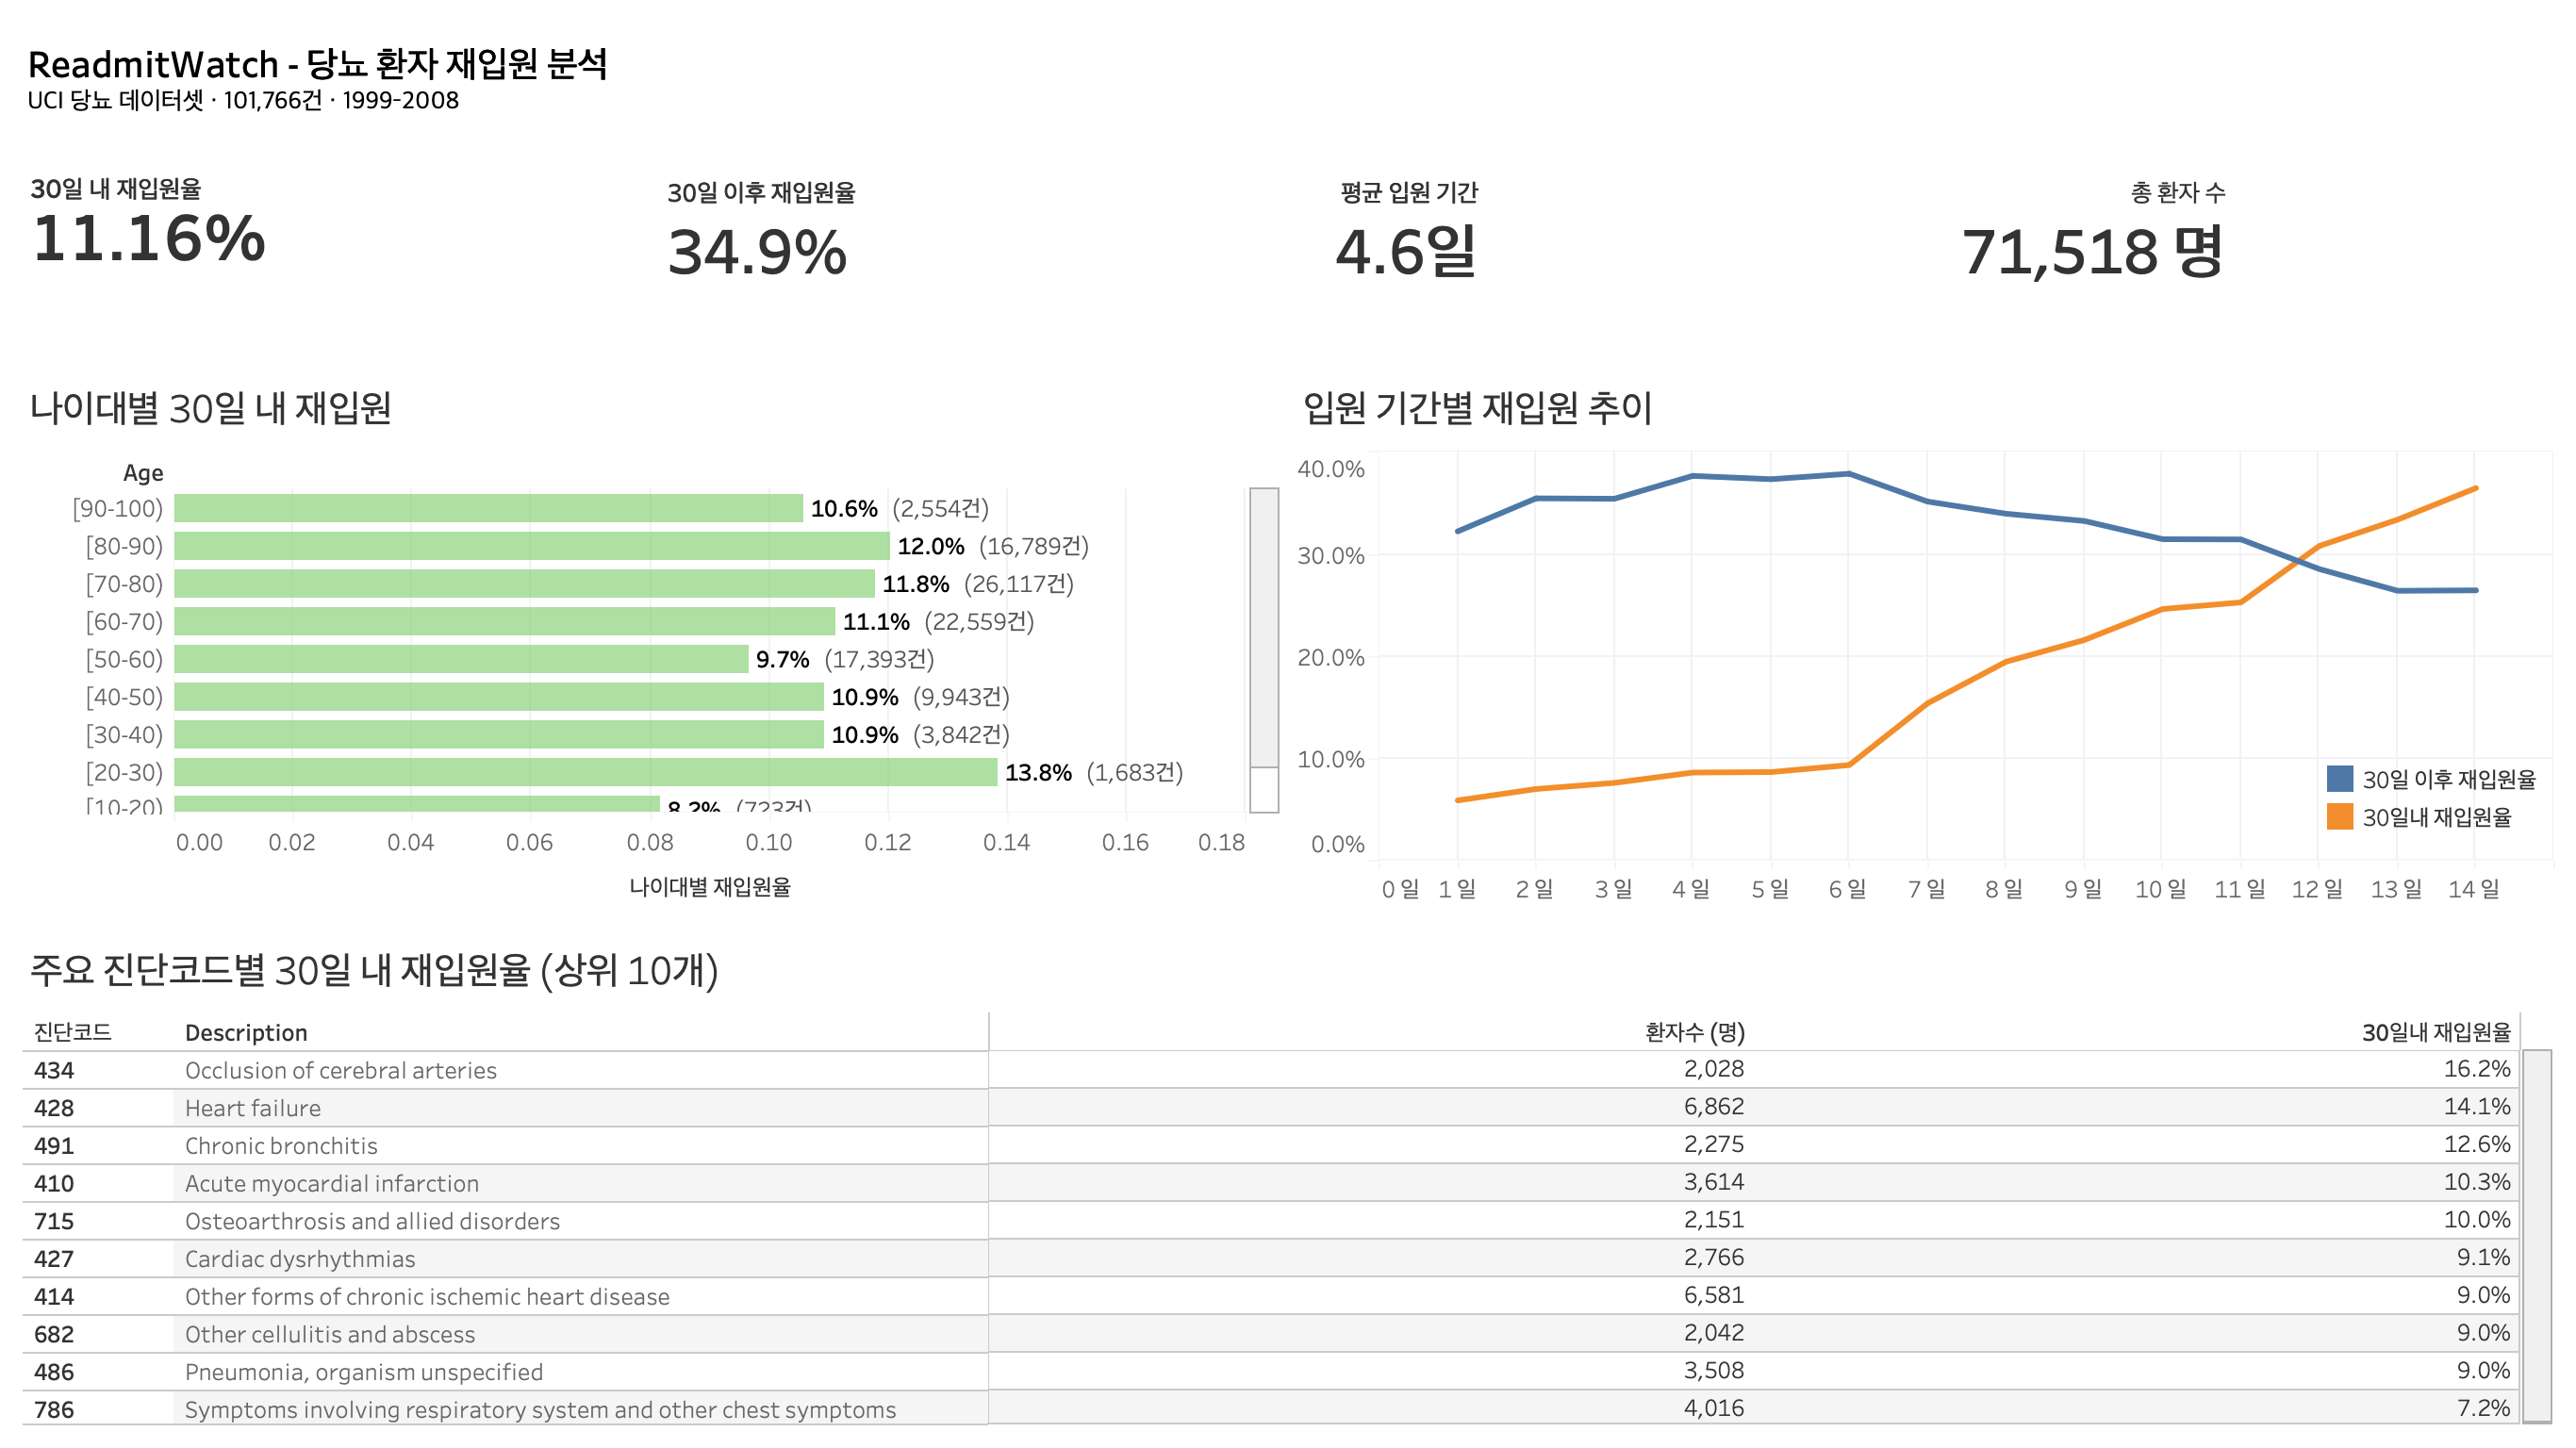

This screenshot's page, from the dashboard's own definition file:
{"tool":"tableau","page":{"name":"대시보드 1","canvas":[1366,768],"ordinal":0},"visuals":[{"type":"text","box":[8,8,1350,66]},{"type":"worksheet","title":"KPI_30일내 재입원","mark":"Text","box":[8,74,338,102]},{"type":"worksheet","title":"KPI_30일이후재입원","mark":"Automatic","box":[346,74,338,102]},{"type":"worksheet","title":"KPI_평균입원기간","mark":"Automatic","box":[684,74,337,102]},{"type":"worksheet","title":"KPI_총환자수","mark":"Automatic","box":[1021,74,337,102]},{"type":"worksheet","title":"나이대별 재입원율","mark":"Automatic","rows":["age"],"cols":["Calculation_4318068034183168"],"box":[8,192,675,298]},{"type":"worksheet","title":"입원기간 라인차트","mark":"Line","rows":["encounter_id"],"cols":["time_in_hospital"],"box":[683,192,675,298]},{"type":"legend","title":"입원기간 라인차트","param":"[federated.054qdl81f75wh915evebw0ec6szy].[none:readmitted:nk]","box":[1242,260,104,83]},{"type":"worksheet","title":"진단코드 테이블","mark":"Text","rows":["diag_1","description"],"box":[8,490,1350,270]}]}

Visuals, with their boxes in screenshot pixels (x1, y1, x2, y2), scaled from the page's 1366x768 canvas onto the 2576x1448 screenshot:
text: [left=15, top=15, right=2561, bottom=140]
"KPI_30일내 재입원" worksheet (Text marks): [left=15, top=140, right=652, bottom=332]
"KPI_30일이후재입원" worksheet: [left=652, top=140, right=1290, bottom=332]
"KPI_평균입원기간" worksheet: [left=1290, top=140, right=1925, bottom=332]
"KPI_총환자수" worksheet: [left=1925, top=140, right=2561, bottom=332]
"나이대별 재입원율" worksheet: [left=15, top=362, right=1288, bottom=924]
"입원기간 라인차트" worksheet (Line marks): [left=1288, top=362, right=2561, bottom=924]
"입원기간 라인차트" legend: [left=2342, top=490, right=2538, bottom=647]
"진단코드 테이블" worksheet (Text marks): [left=15, top=924, right=2561, bottom=1433]
